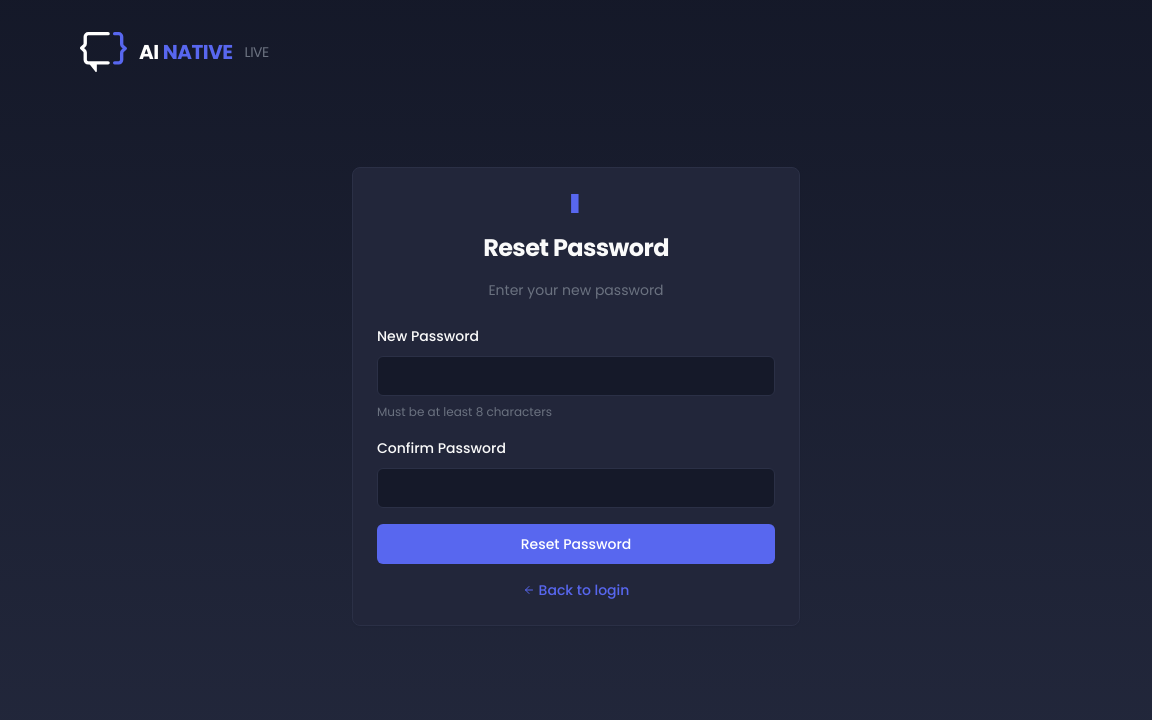
ResetPasswordPage › API Integration › should redirect to login after successful reset
Type "NewPassword123!" into the password field labelled "New Password" at (576, 376), box [377,356,775,396]
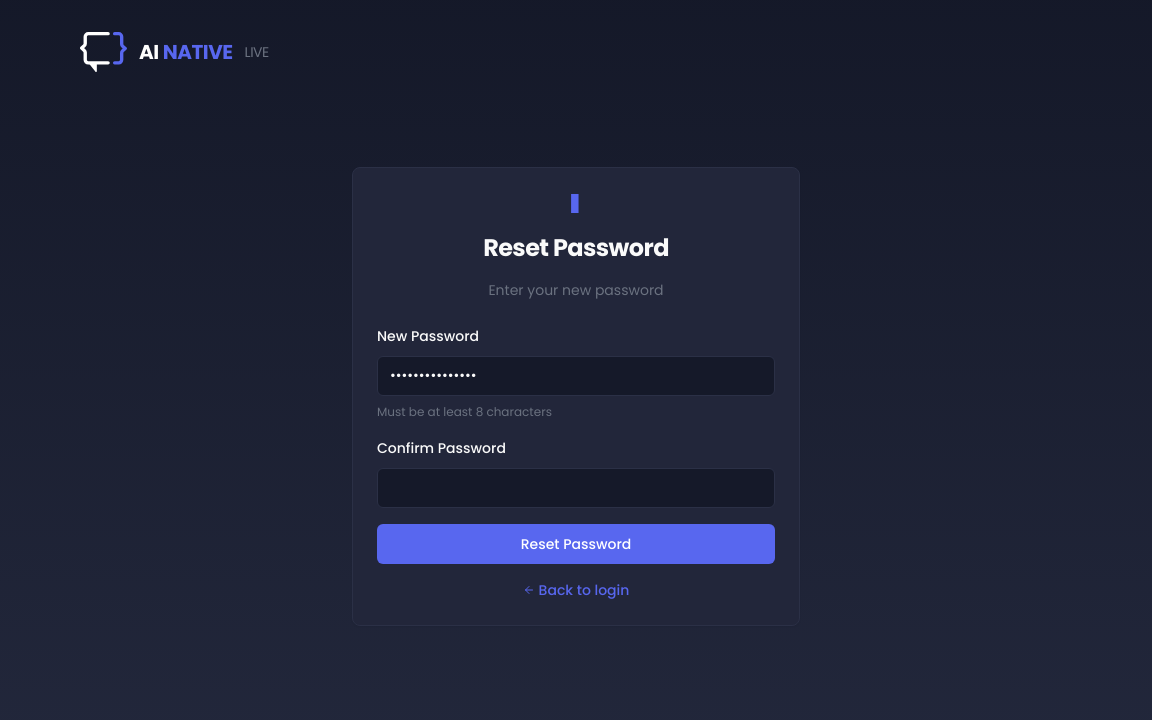
Type "NewPassword123!" into the password field labelled "Confirm Password" at (576, 488), box [377,468,775,508]
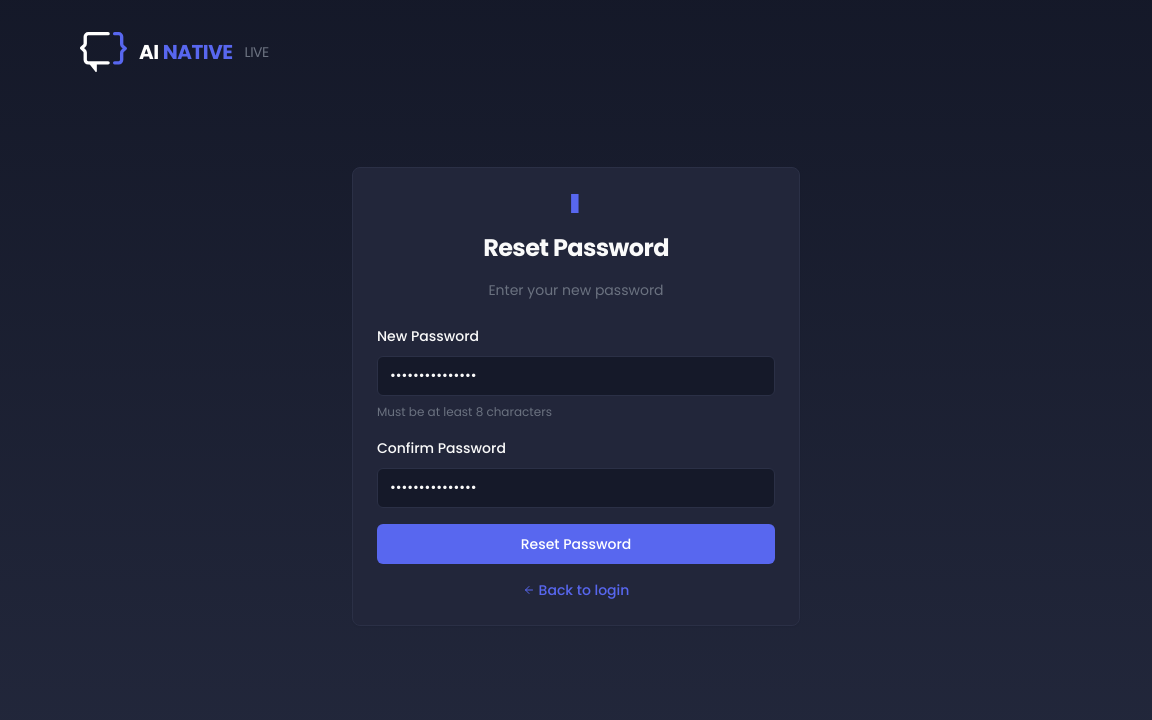
Click the button "Reset Password" at (576, 544), box [377,524,775,564]
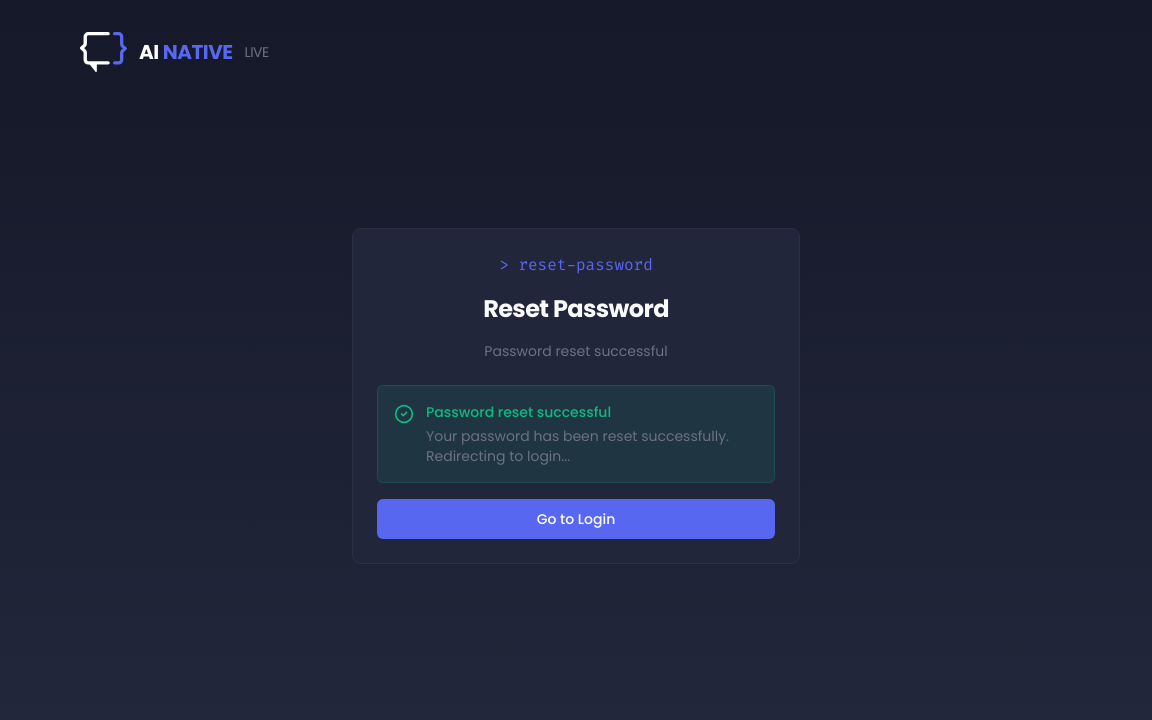
Check: the text "Your password has been reset successfully" is shown, box [426,426,729,466]
